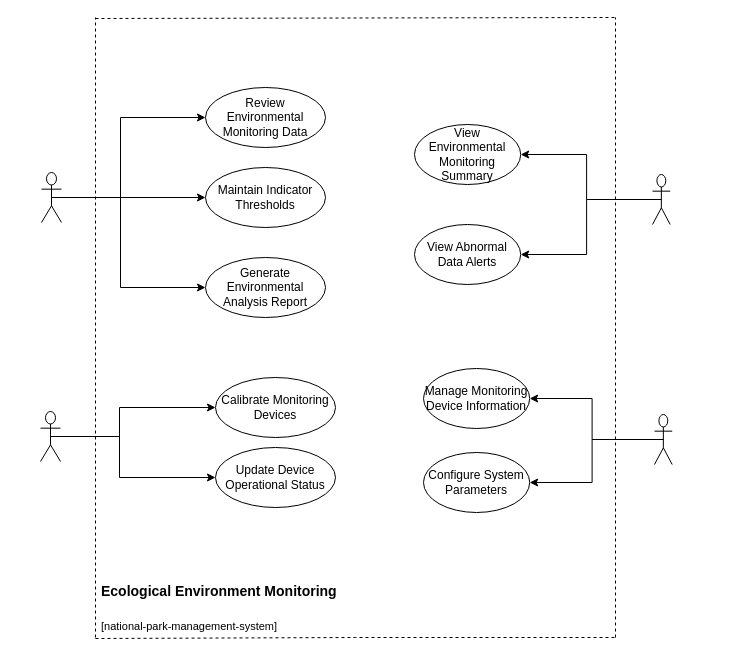
Some shapes in this 737 by 658 pixel diagram are drawn without their labels. The shapes that lost their labels are listed below. From the top down, each one's centre as x and y in pixels, then its label:
(51,197): data_analyst
(661,199): park_manager
(50,436): technician
(663,439): system_administrator
